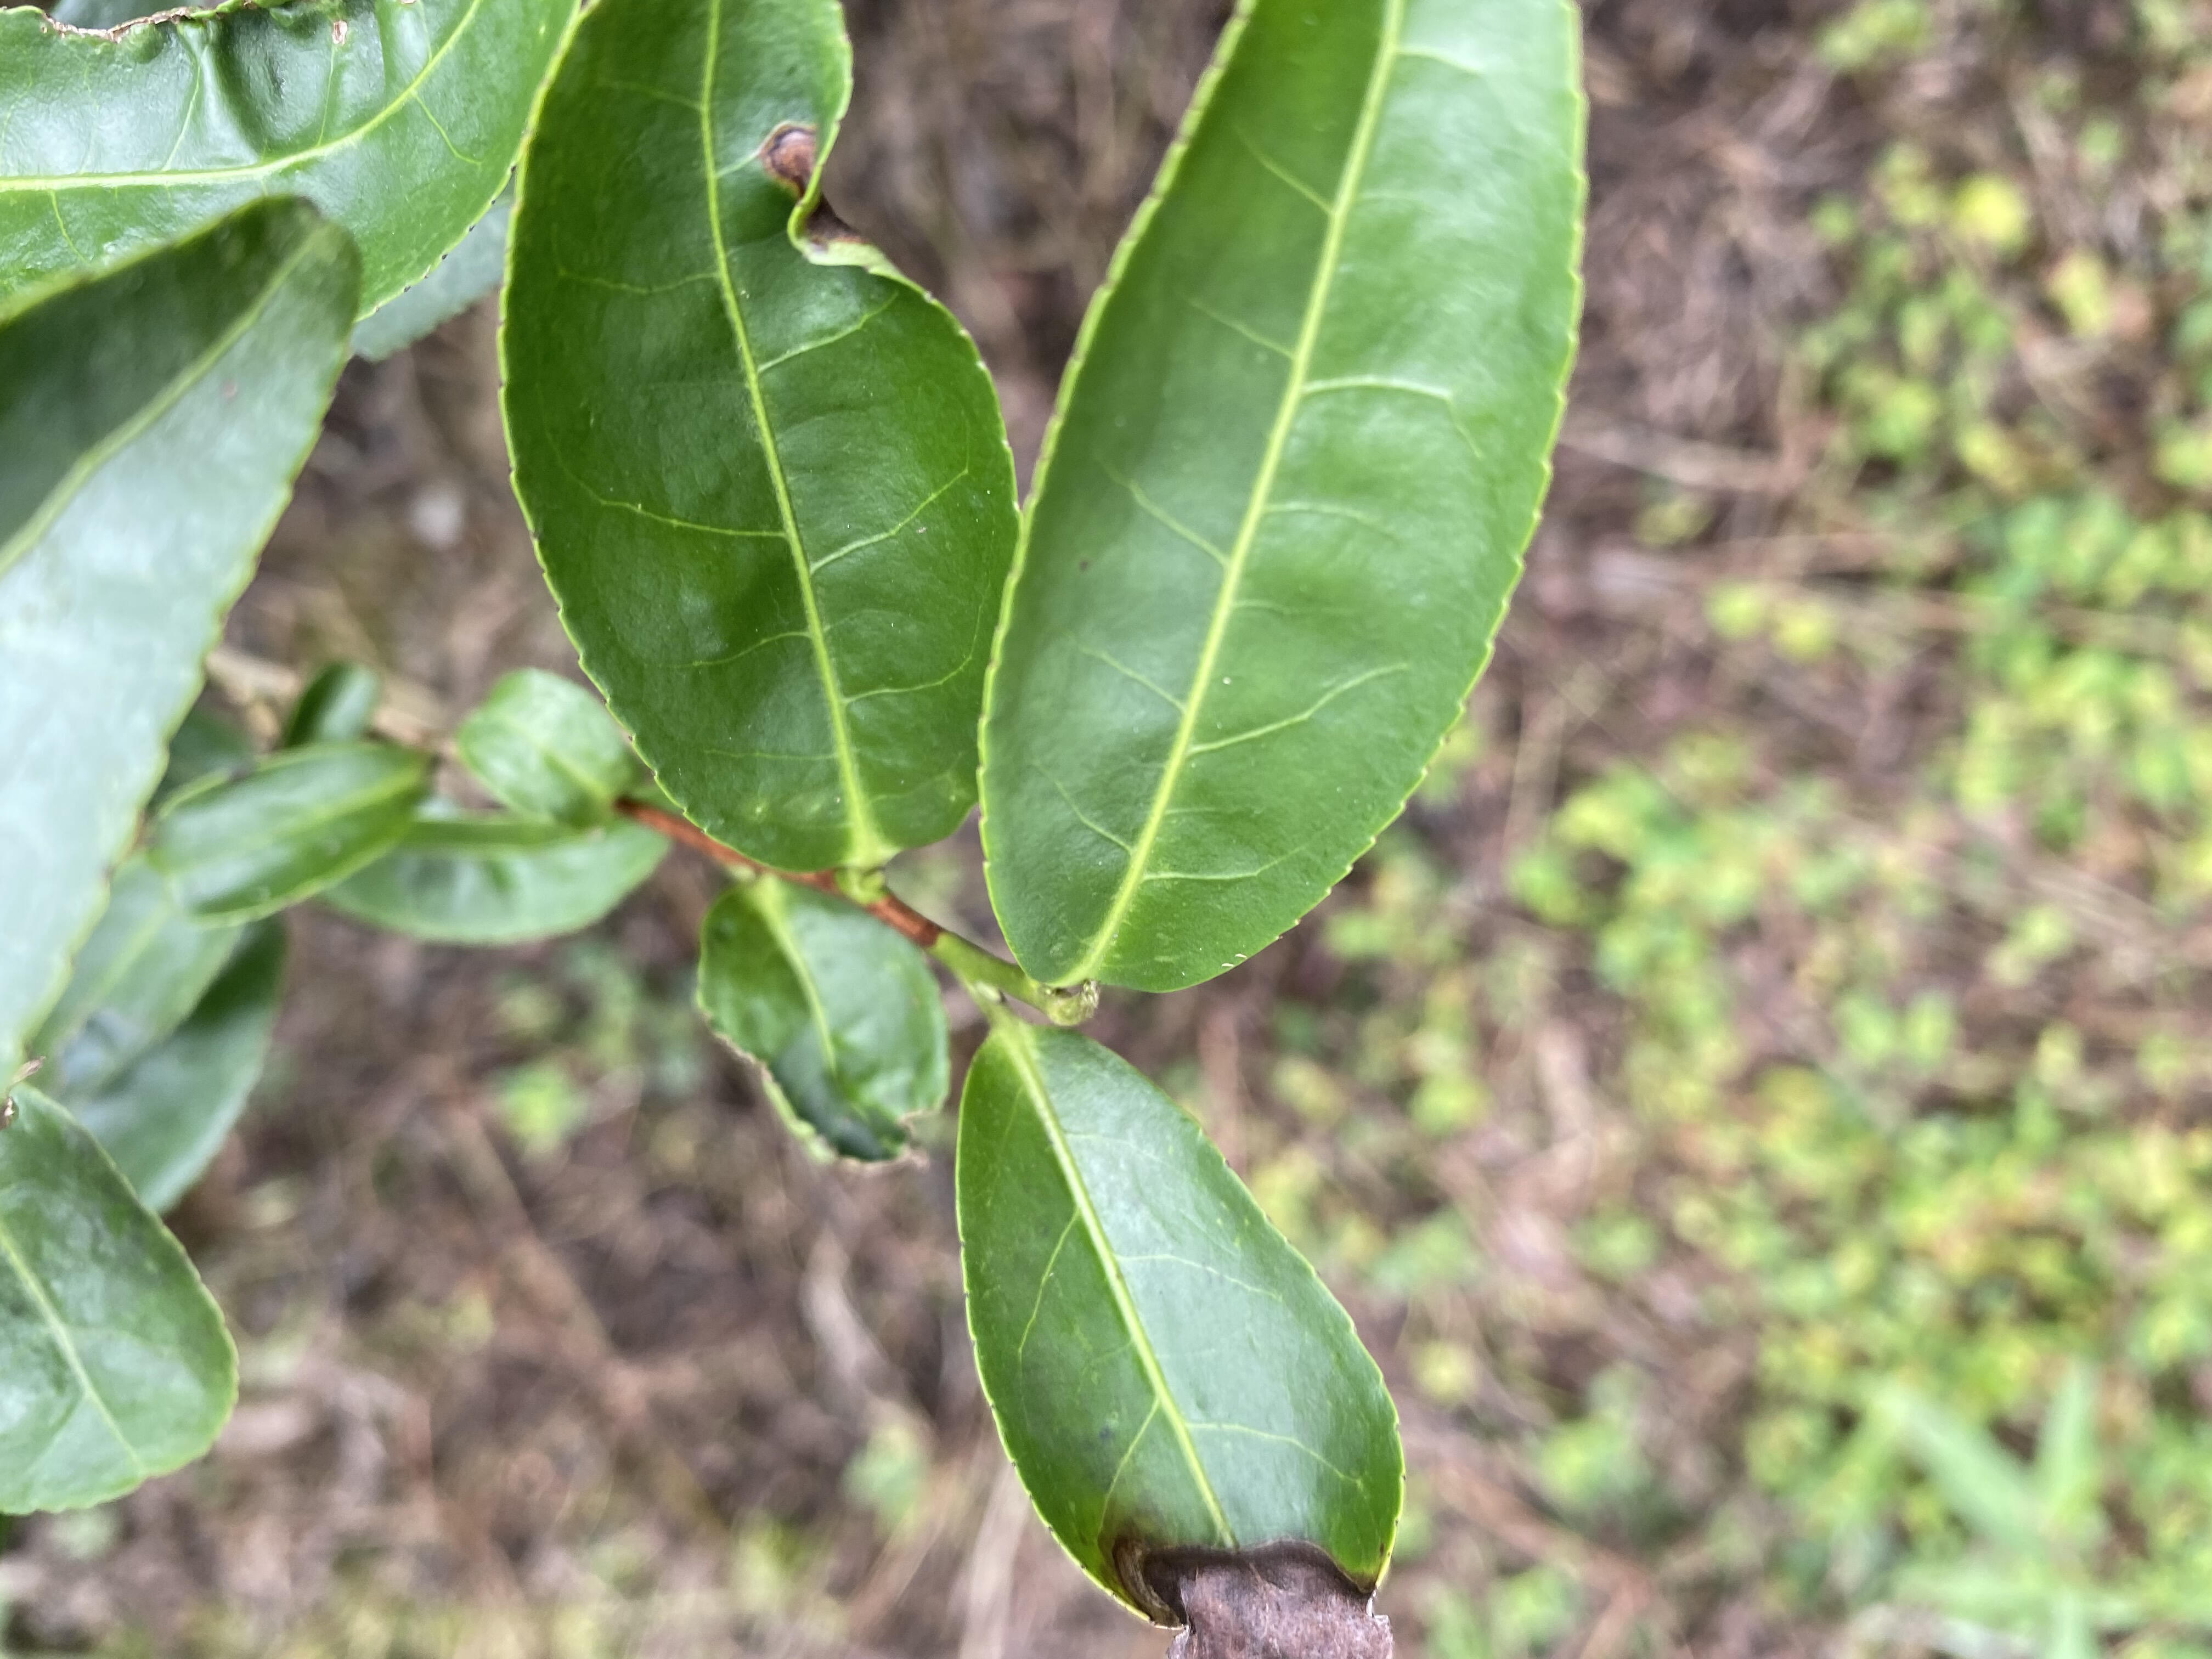healthy: (970, 3, 1588, 993)
tanju_high: (491, 3, 1021, 878), (954, 1021, 1402, 1657)
